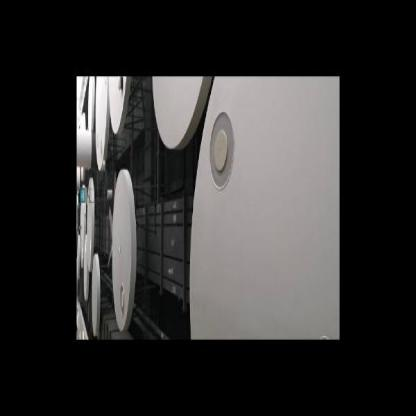light_off: (207, 95, 239, 204)
